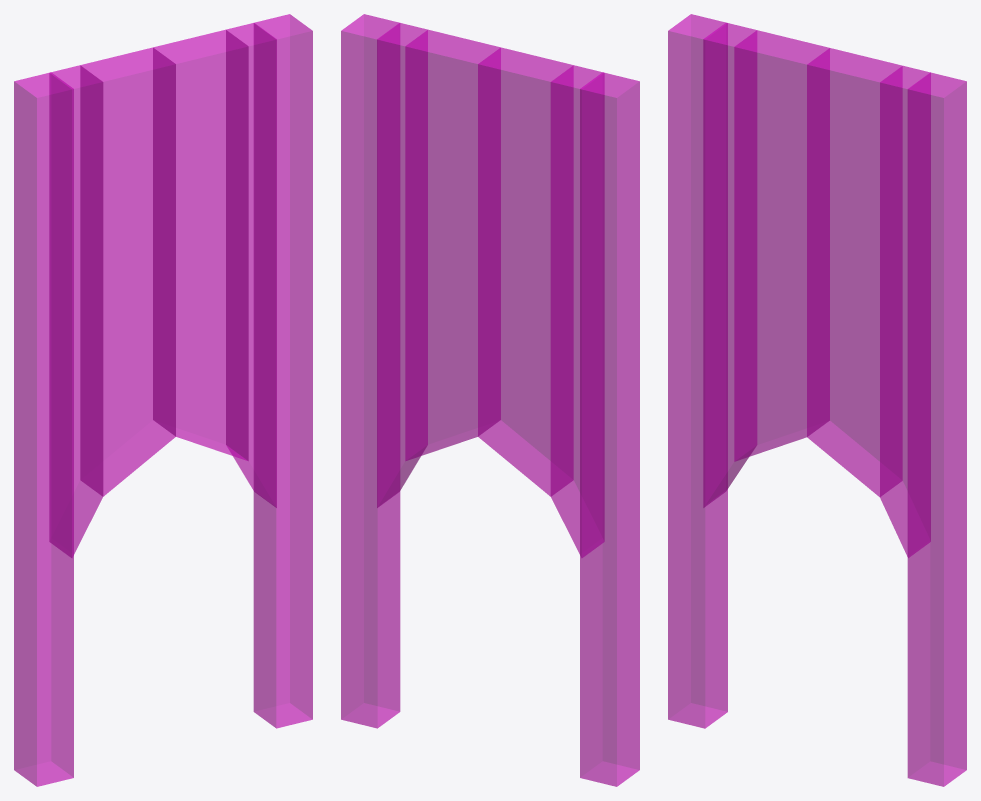
File: SM_Bld_Wall_Door_Large_02_Collision.fbx
3 views of the same model, side by side, from view 1: azimuth 30°, elevation 25°; view 2: azimuth 150°, elevation 25°; view 3: azimuth 330°, elevation 25° (orthographic).
Visible parts, largest first — view 1: SM_Bld_Wall_Door_Large_02_Collision; view 2: SM_Bld_Wall_Door_Large_02_Collision; view 3: SM_Bld_Wall_Door_Large_02_Collision.
Part boxes in pixels (bbox=[...]): SM_Bld_Wall_Door_Large_02_Collision: bbox=[14, 14, 312, 786]; SM_Bld_Wall_Door_Large_02_Collision: bbox=[341, 14, 639, 786]; SM_Bld_Wall_Door_Large_02_Collision: bbox=[668, 14, 966, 786].
Size of the model in its own units: 504 by 1202 by 72.53.
